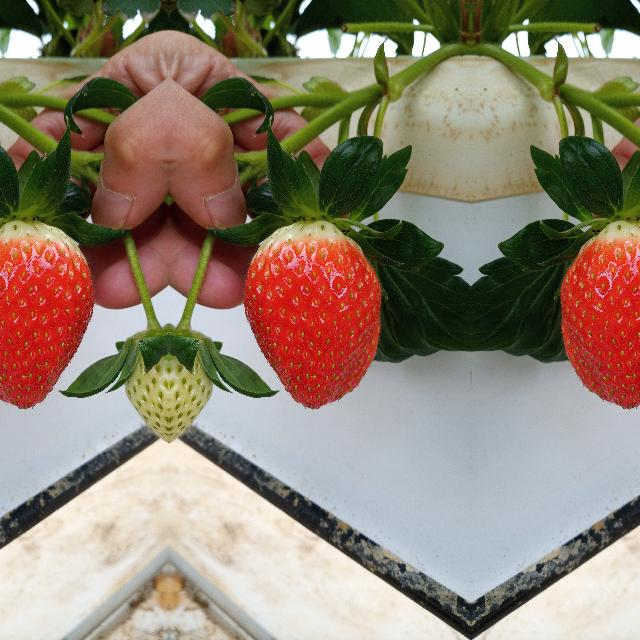Health_100: (242, 220, 382, 410), (0, 220, 94, 410), (558, 220, 640, 410)
Health_25: (168, 316, 226, 444), (110, 316, 168, 444)
